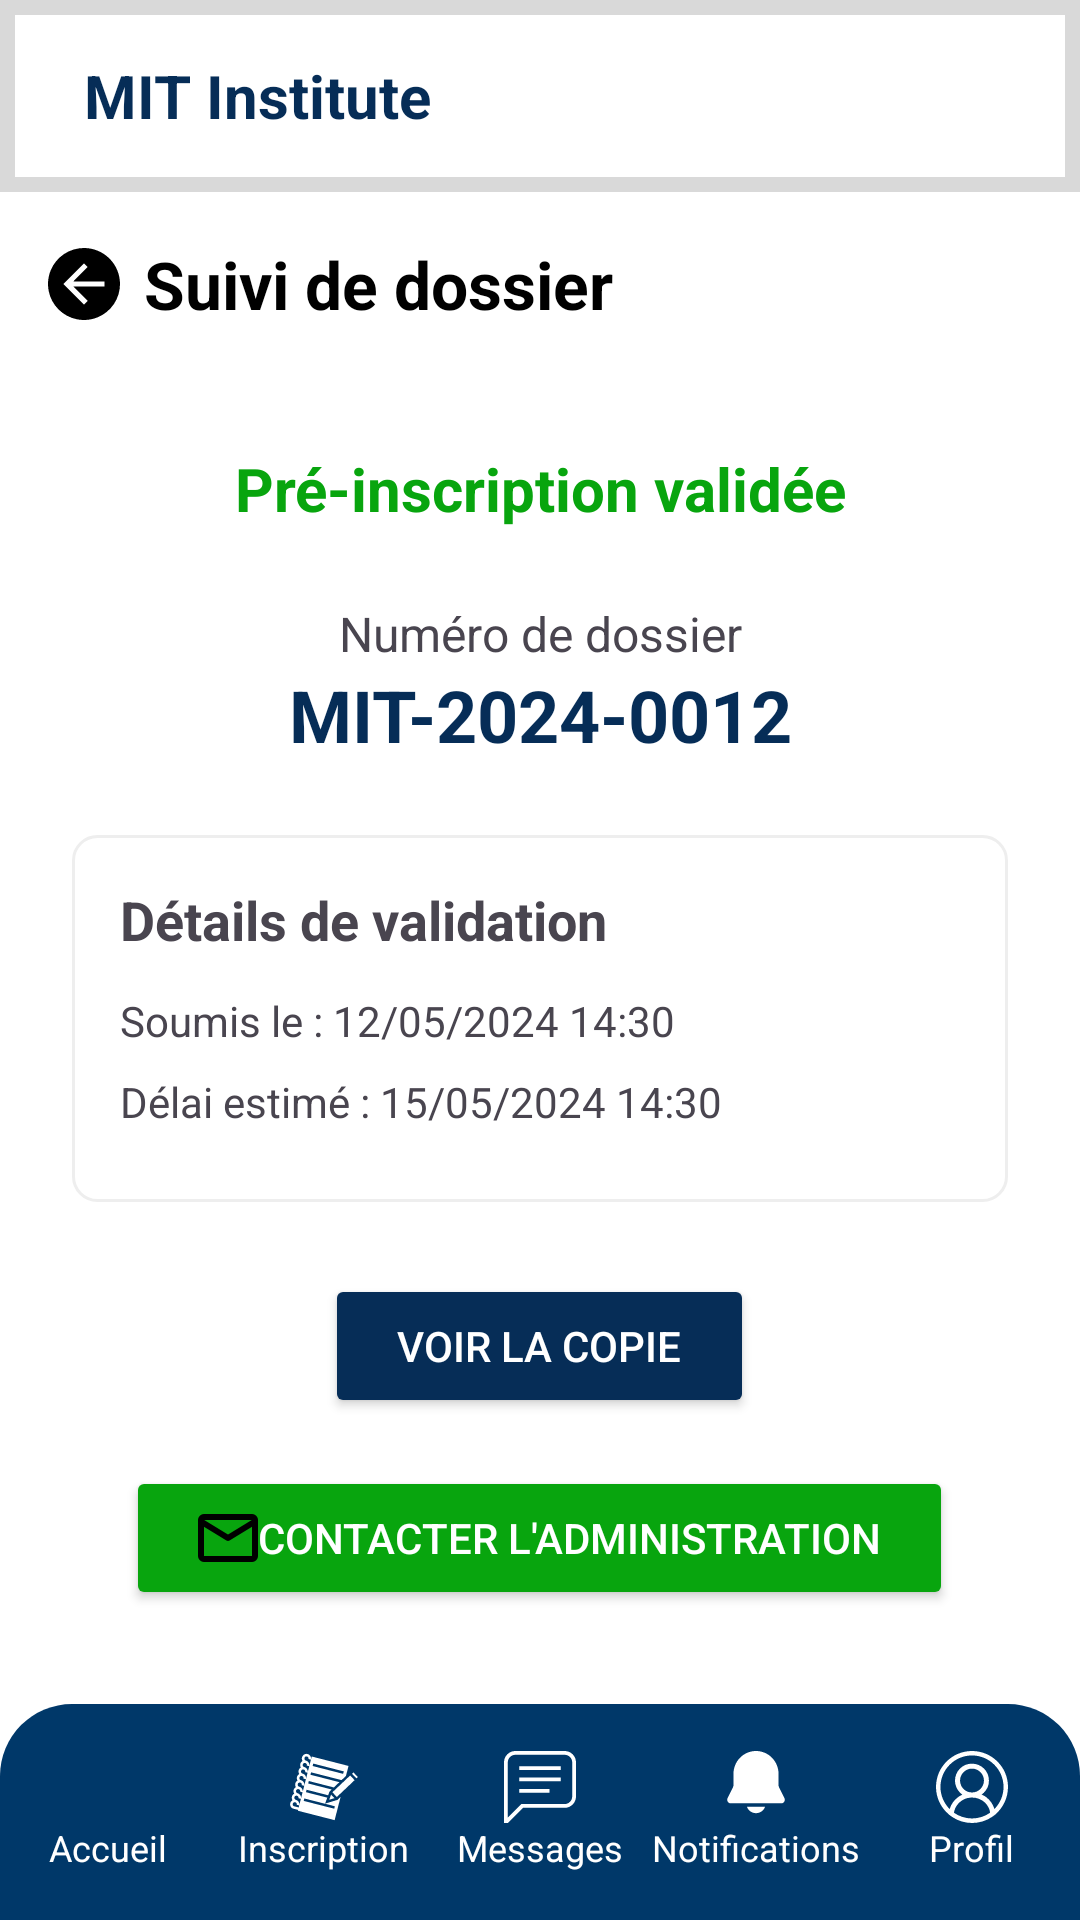

Icon click points for this 1080 × 1920 phone screenshot, format (x=x, y=y):
Notes: (x=324, y=1786)
Retour: (x=84, y=284)
